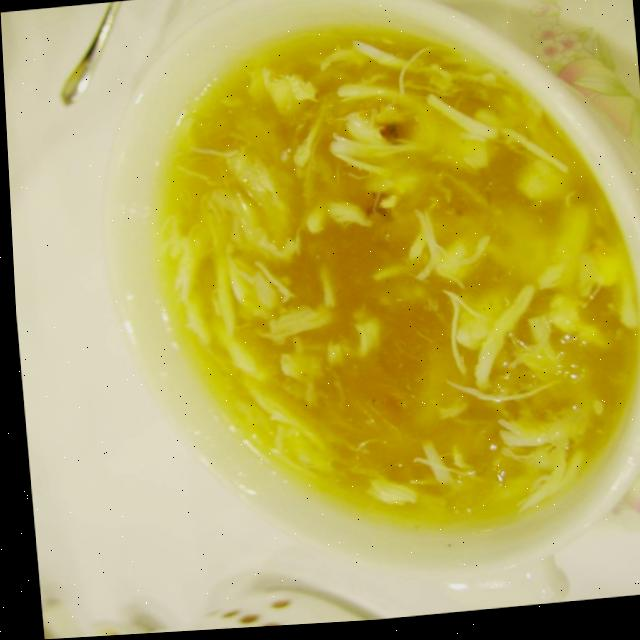汤锅炖物: (67, 0, 640, 628)
